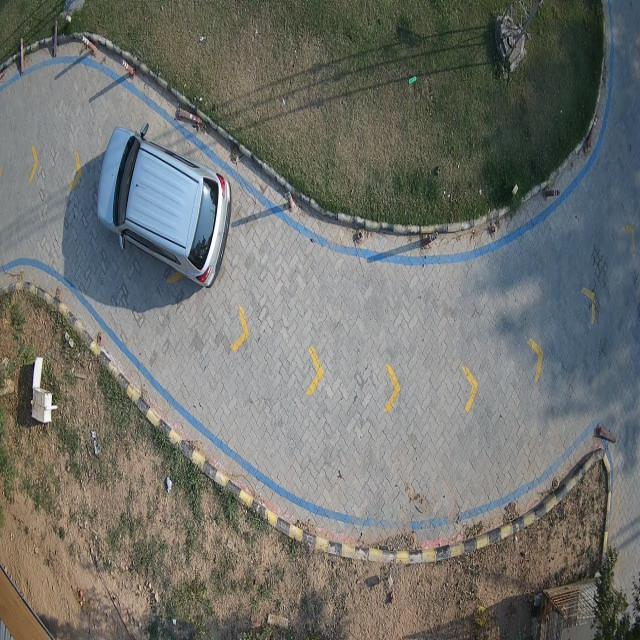car: (98, 124, 231, 286)
